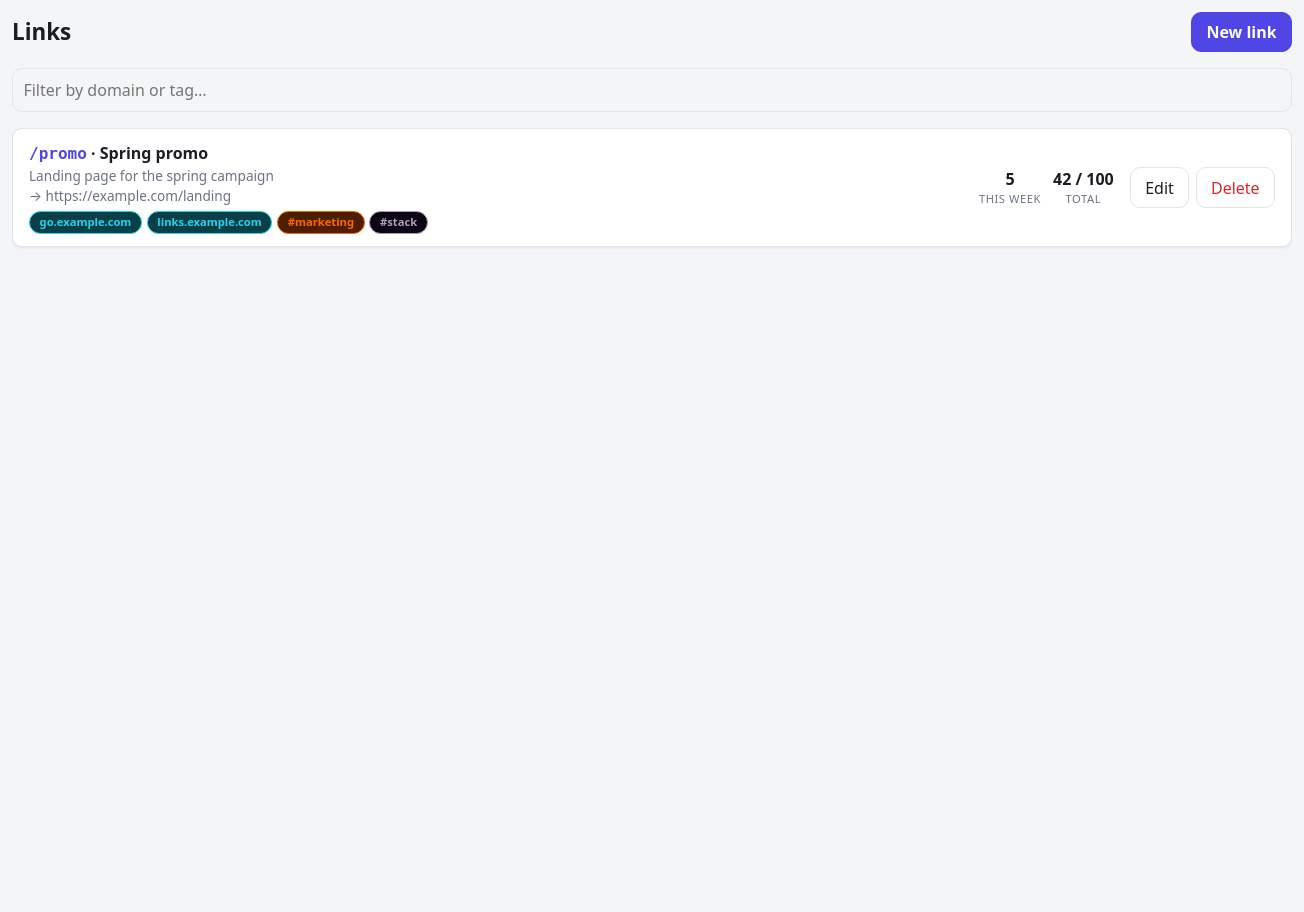
Test case: ShortCodes › expands the row into a map and stats sidebar inside the row
Expected: the text "Spring promo" is shown, [91, 142, 208, 164]
What coordinates should you click on to do the following:
click the button "promo"
I would click on:
 (652, 188)
Its box is [12, 128, 1292, 247].
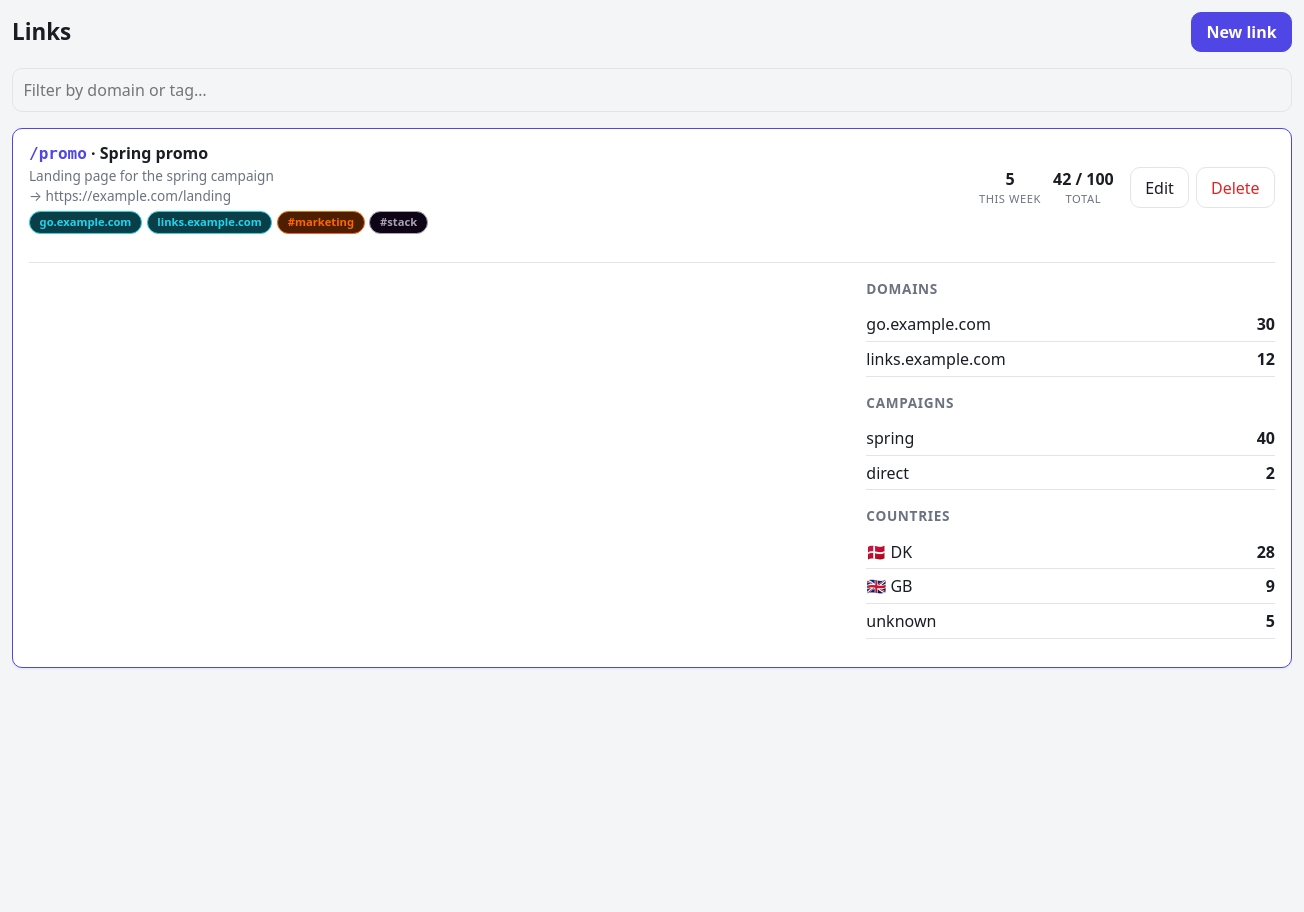
Result: the element with class "row-stats" is shown at [29, 262, 1275, 655]
Result: the text "go.example.com" is shown at [866, 312, 991, 336]
Result: the text "30" is shown at [1257, 312, 1275, 336]
